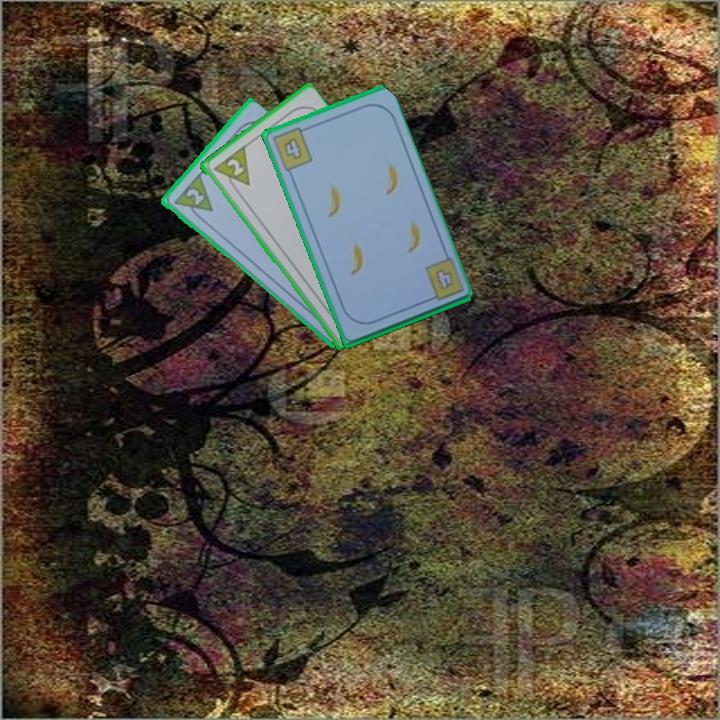2p: (169, 171, 216, 224), (208, 143, 253, 196)
4b: (269, 123, 315, 174), (431, 265, 456, 293)
